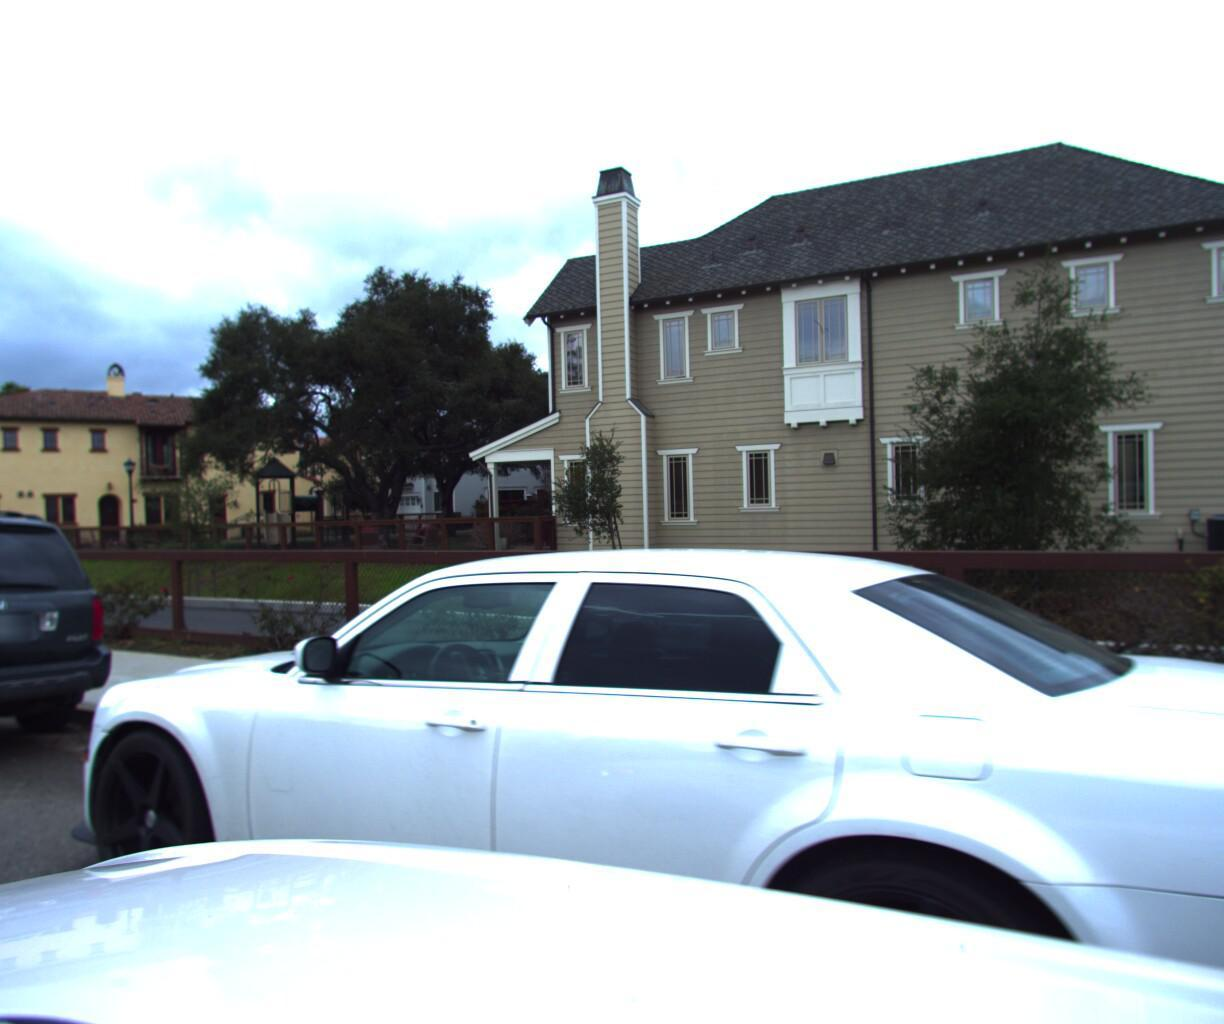car: (21, 542, 1224, 1024), (0, 503, 117, 815)
